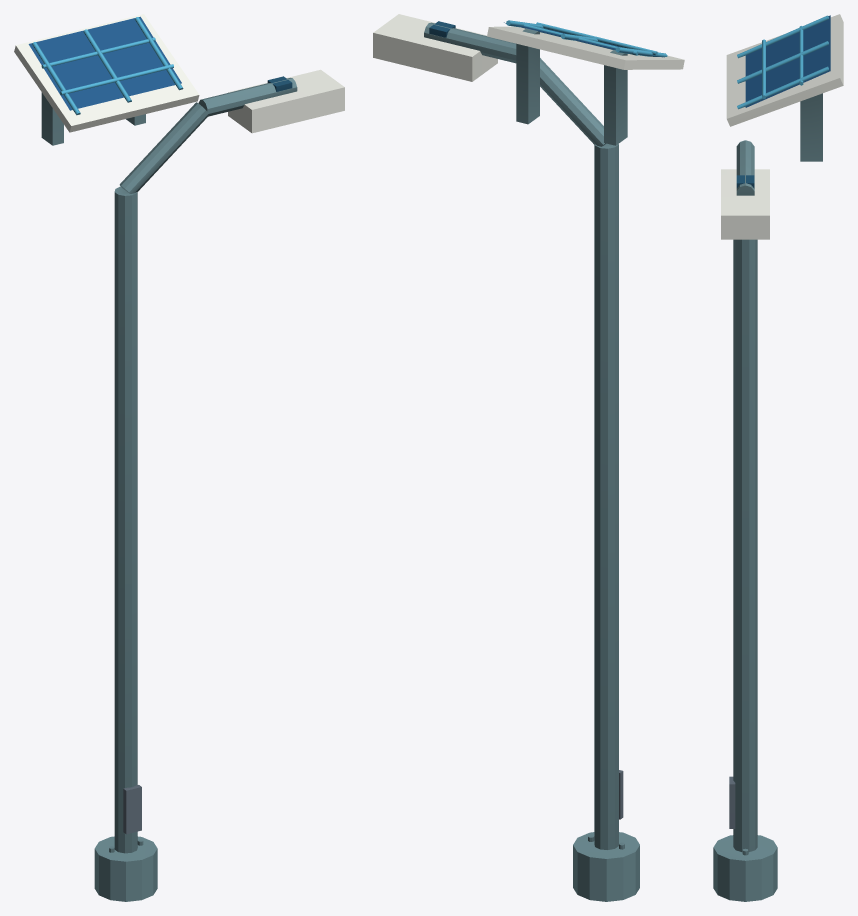
File: lamp.glb
3 renders of one model, left to right at view 1: azimuth 30°, elevation 25°; view 2: azimuth 150°, elevation 25°; view 3: azimuth 270°, elevation 25°, orthographic. The views are drawn at different scales.
Visible parts, largest first — view 1: foot, lamp housing, photovoltaic cells, solar cell division, maintenance hatch; view 2: foot, lamp housing, solar cell division; view 3: foot, lamp housing, photovoltaic cells, solar cell division, maintenance hatch.
Boxes of the visible parts, x1,y1,x2,y2 form: foot: (41,78,297,901); lamp housing: (14,14,344,133); photovoltaic cells: (28,16,181,110); solar cell division: (32,17,183,115); maintenance hatch: (123,785,141,834); foot: (424,22,639,901); lamp housing: (373,14,684,81); solar cell division: (506,20,667,56); foot: (713,93,822,901); lamp housing: (721,14,843,239); photovoltaic cells: (745,15,830,107); solar cell division: (737,15,828,109); maintenance hatch: (729,776,735,828).
Size of the model in its own units: 0.845 by 2.47 by 0.3443.
